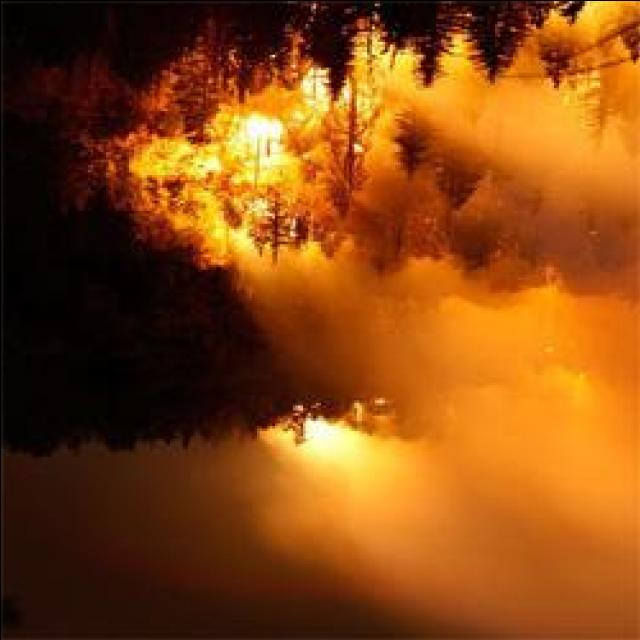fire: (242, 109, 277, 142)
smoke: (529, 400, 639, 555), (274, 292, 386, 386), (256, 474, 353, 556), (530, 138, 632, 210), (444, 80, 536, 154)
